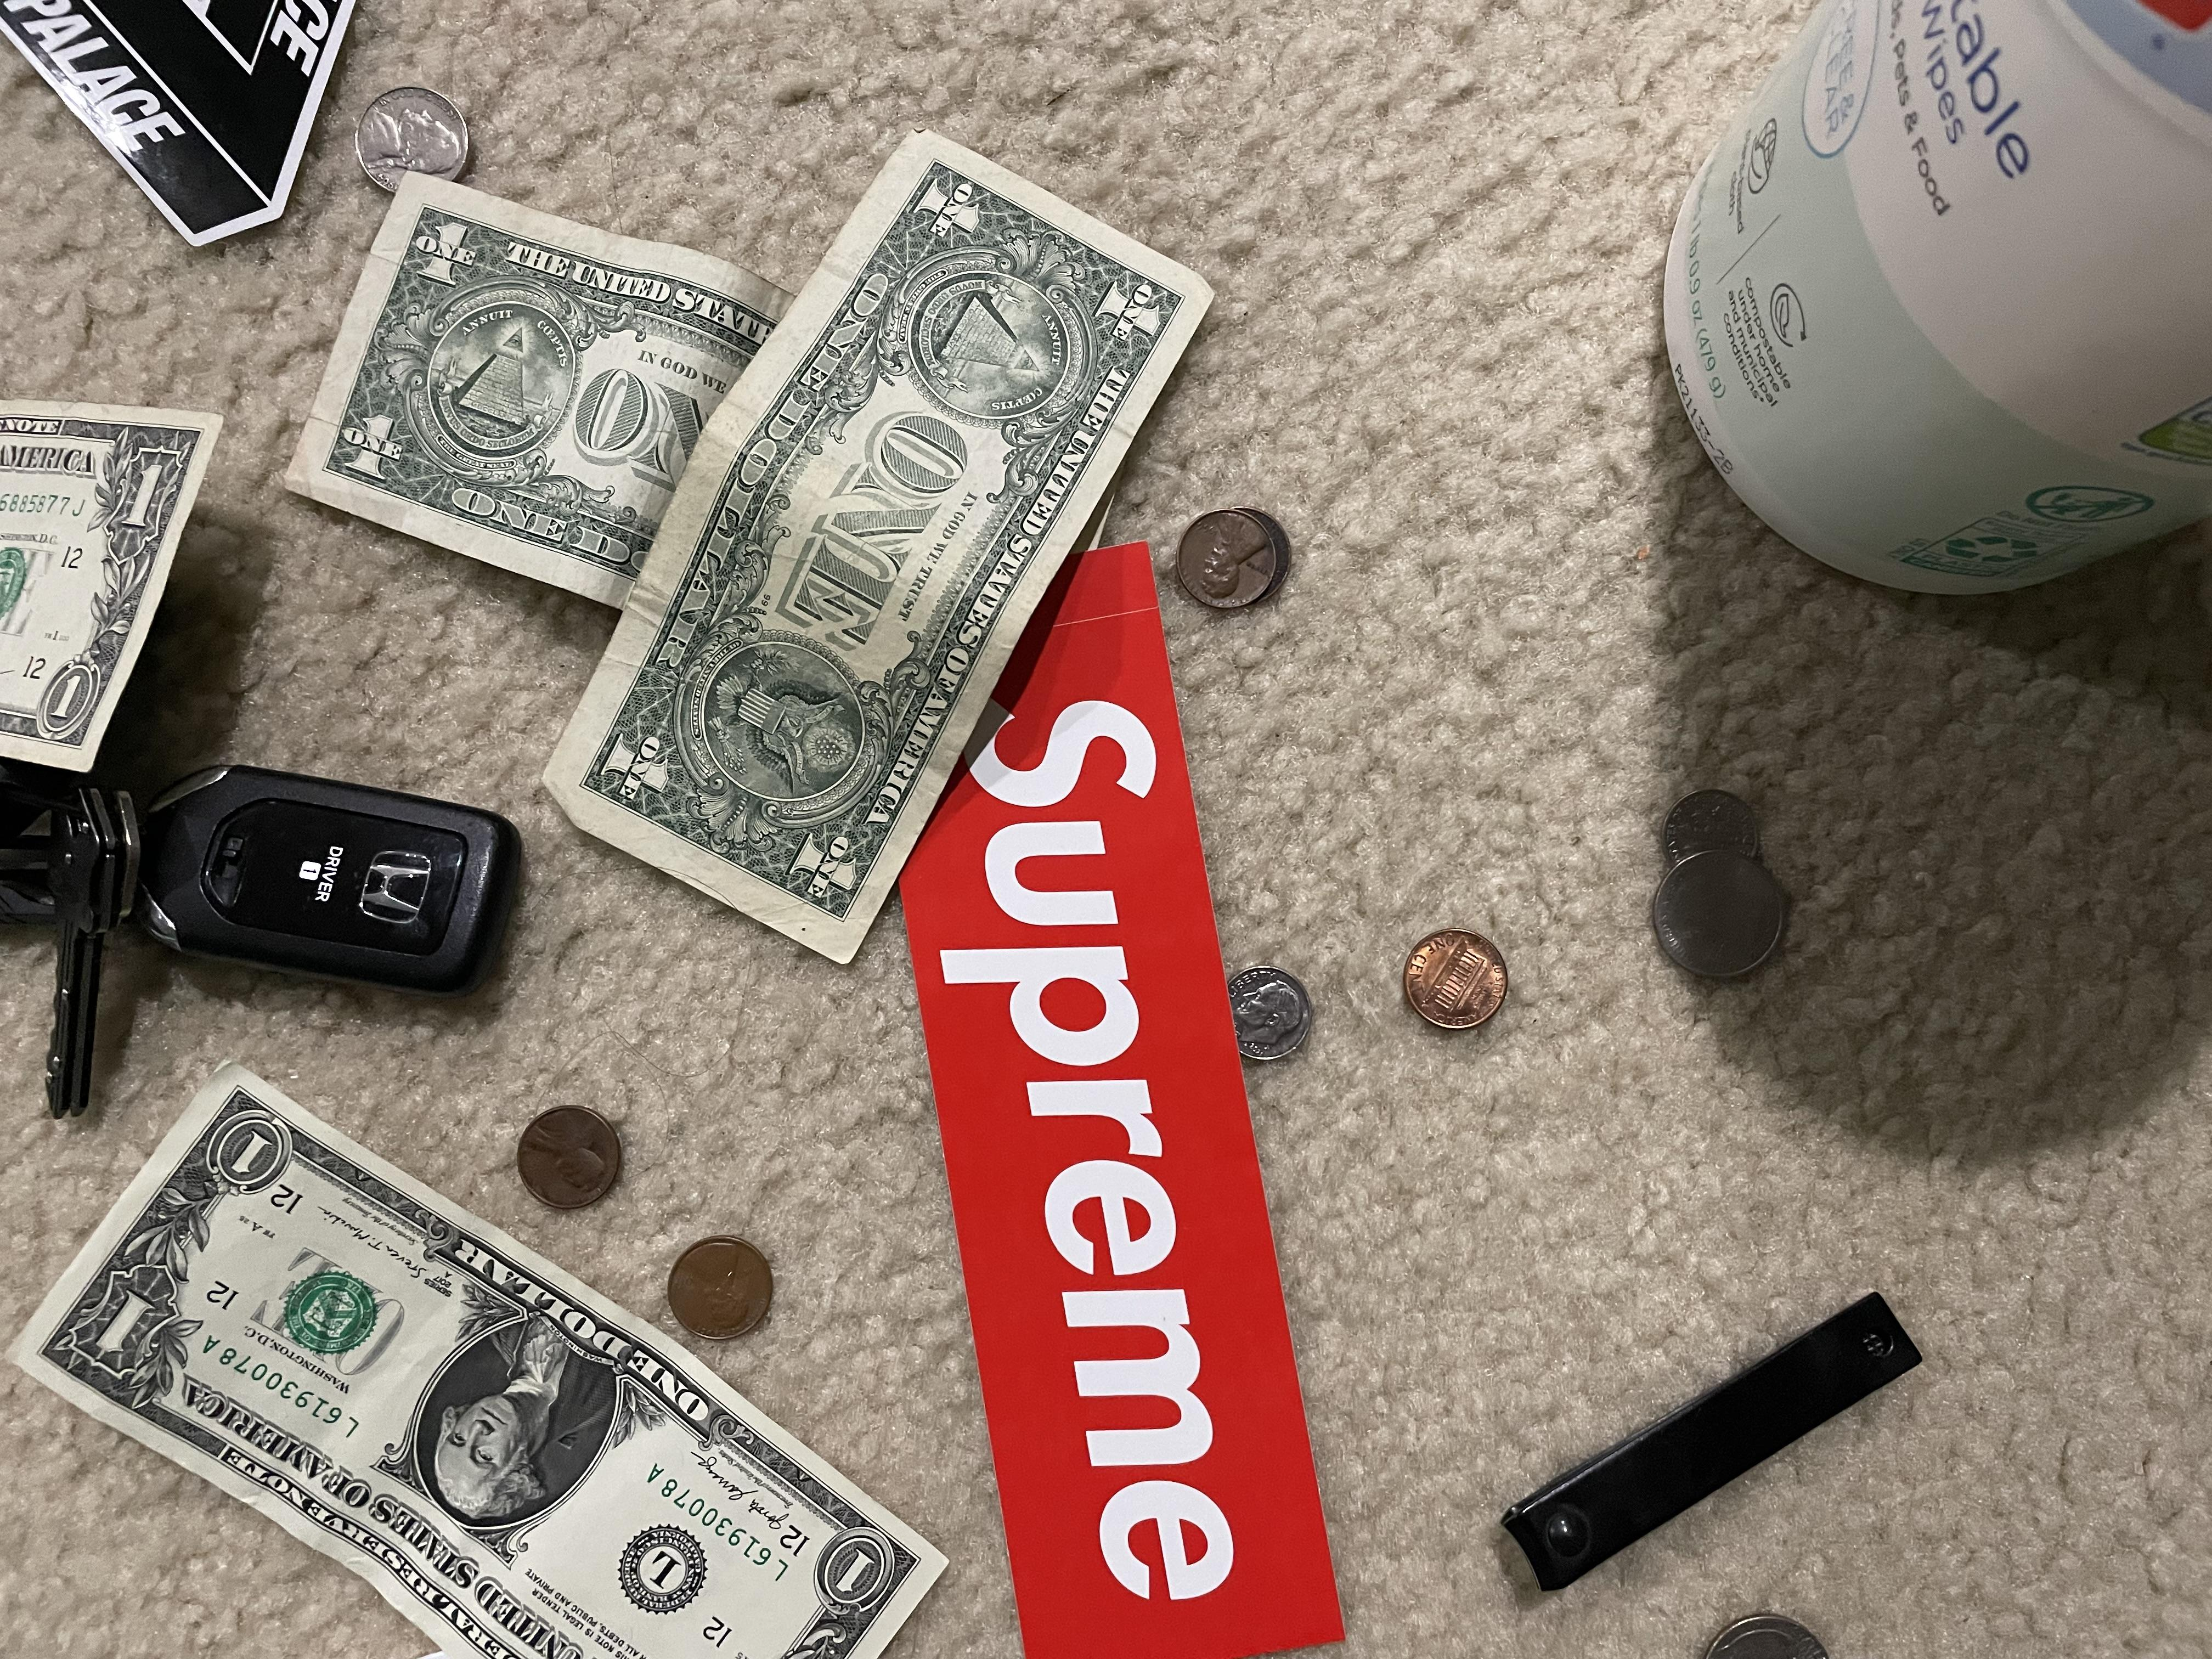Dime: (1212, 948, 1325, 1065), (1658, 770, 1771, 868)
OneBill: (2, 1061, 984, 1656), (549, 122, 1207, 976), (286, 157, 820, 627), (343, 87, 503, 192)
Penny: (505, 1100, 637, 1216), (664, 1222, 775, 1345), (1397, 922, 1505, 1046), (1181, 504, 1284, 613)
Quarter: (1646, 845, 1804, 979)
